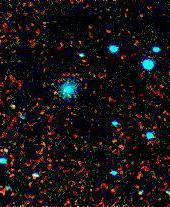star: (0, 91, 29, 121)
